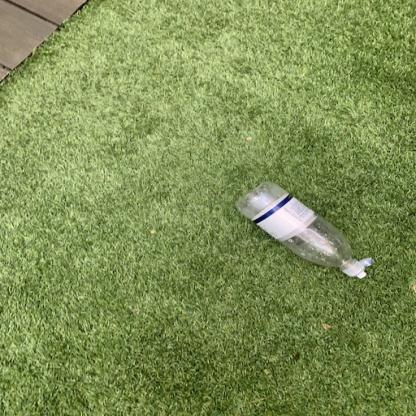trash: (232, 181, 378, 282)
